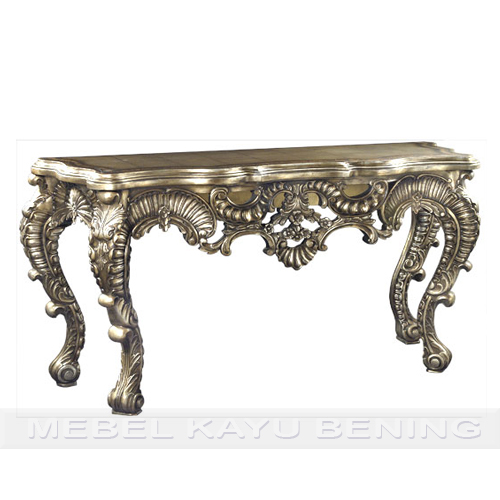Carving Table: (23, 137, 473, 422)
